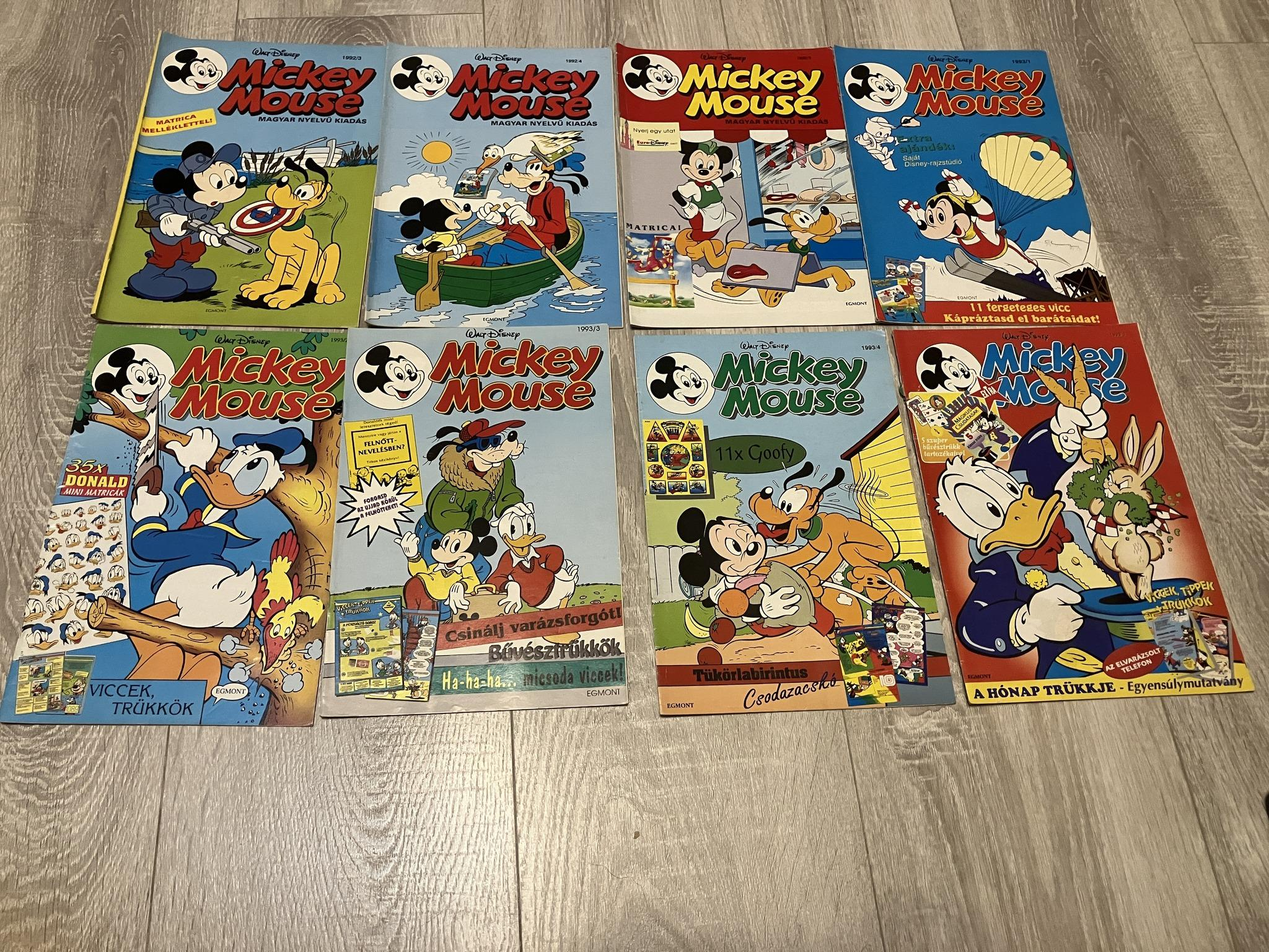comic: (892, 276, 1252, 744), (0, 324, 345, 726), (628, 312, 954, 727), (316, 324, 626, 716), (833, 12, 1116, 358), (93, 27, 387, 340), (614, 34, 873, 334), (367, 47, 623, 327)
